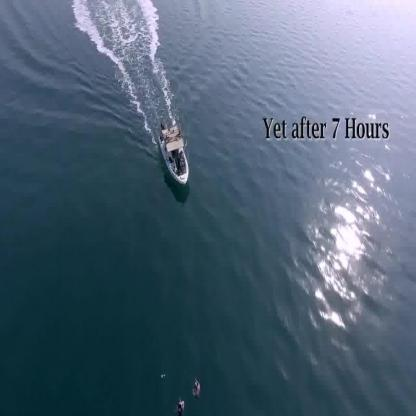Boat: (159, 119, 192, 190)
